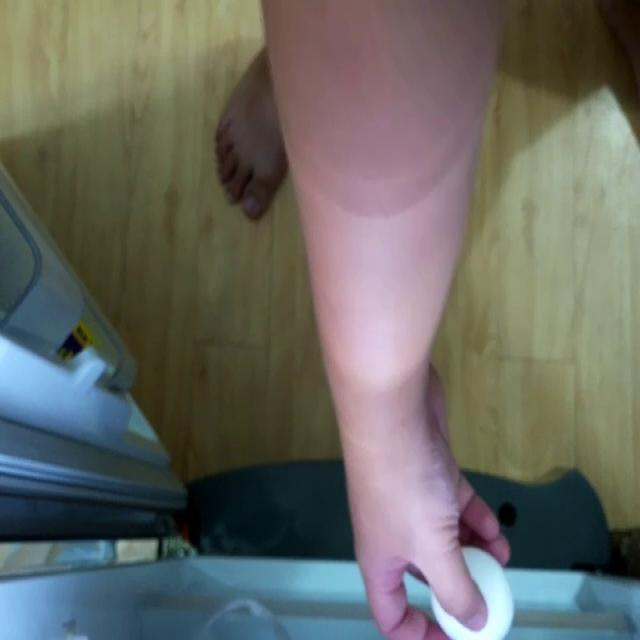egg: (435, 545, 513, 636)
